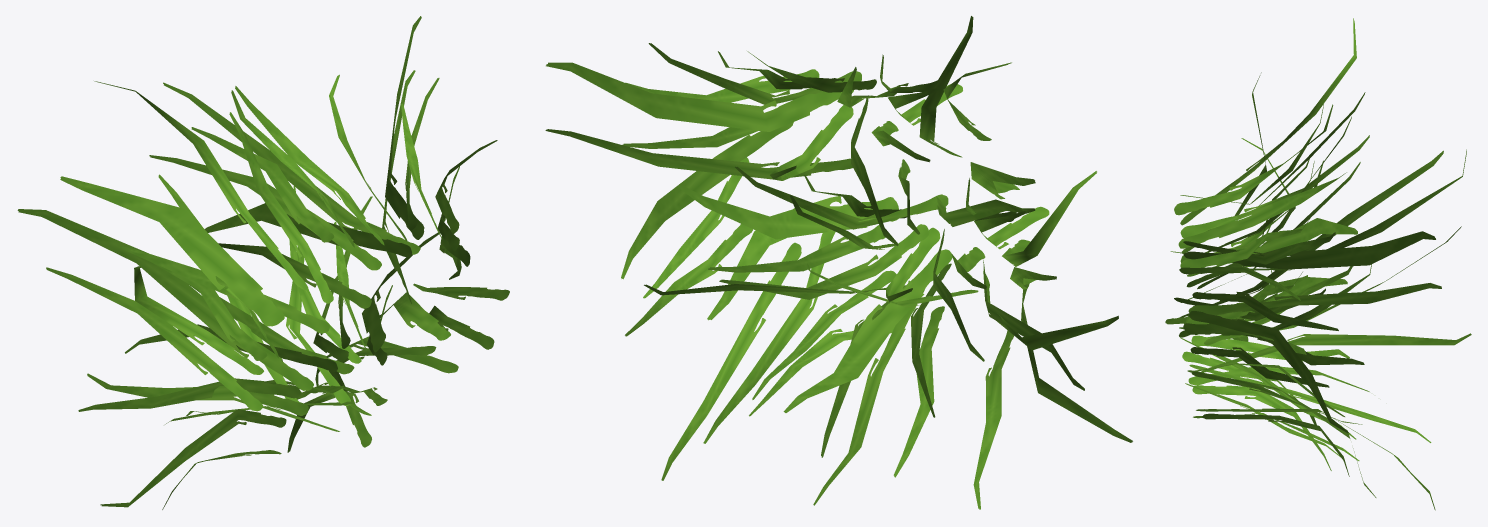
File: grass2.fbx
3 renders of one model, left to right at view 1: azimuth 30°, elevation 25°; view 2: azimuth 150°, elevation 25°; view 3: azimuth 270°, elevation 25°, orthographic. The views are drawn at different scales.
Parts seen in each view (by area): view 1: Plane.112; view 2: Plane.112; view 3: Plane.112.
Part boxes in pixels (x1=…): Plane.112: x1=17, y1=16, x2=509, y2=509; Plane.112: x1=545, y1=16, x2=1132, y2=509; Plane.112: x1=1165, y1=18, x2=1471, y2=510.
Bounding box in the file's own units: 42.95 × 41.02 × 29.24.
